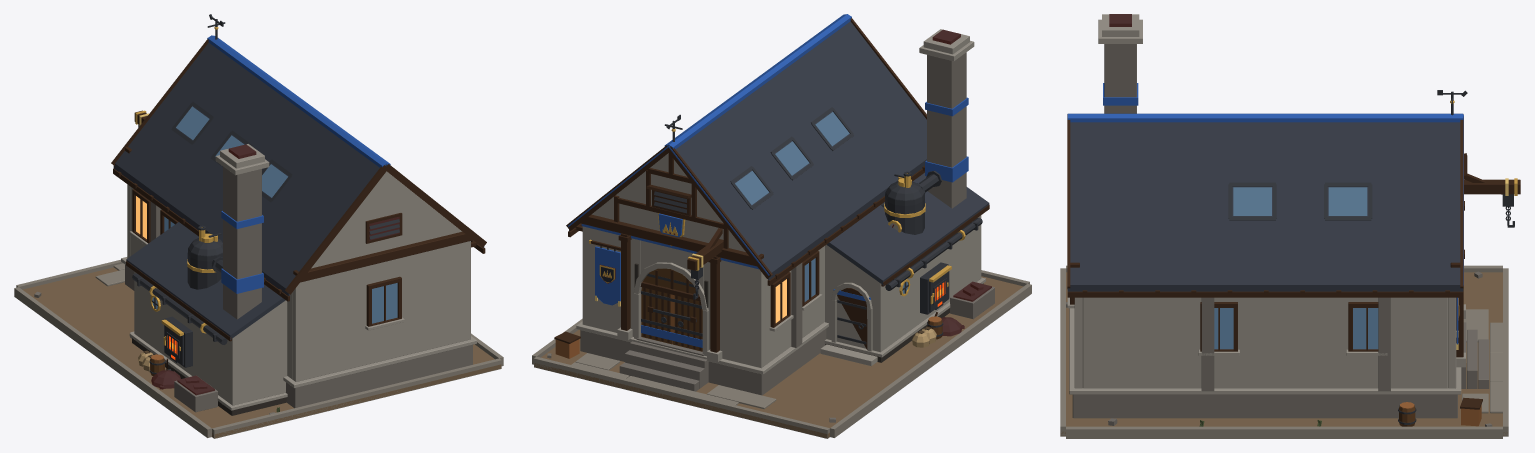
The model's file is 蒸汽车坊_低模.glb.
3 views of the same model, side by side, from view 1: azimuth 30°, elevation 25°; view 2: azimuth 150°, elevation 25°; view 3: azimuth 270°, elevation 25° (orthographic). The views are drawn at different scales.
Parts seen in each view (by area): view 1: SW-stone_light, SW-roof, SW-stone_mid, SW-earth, SW-wood_dark, SW-paving, SW-iron, SW-team, SW-glass, SW-coal, SW-gold, SW-stone_dark; view 2: SW-roof, SW-stone_light, SW-wood_dark, SW-stone_mid, SW-earth, SW-paving, SW-iron, SW-team, SW-glass, SW-wood_mid, SW-gold, SW-coal (+2 smaller); view 3: SW-roof, SW-stone_light, SW-stone_mid, SW-paving, SW-wood_dark, SW-earth, SW-team, SW-glass, SW-iron, SW-wood_warm.
Part boxes in pixels (x1,y1,x2,y2): SW-stone_light: (121,144,476,410); SW-roof: (113,43,484,339); SW-stone_mid: (34,166,472,414); SW-earth: (22,267,501,438); SW-wood_dark: (111,39,486,370); SW-paving: (14,259,503,438); SW-iron: (132,14,399,374); SW-team: (207,35,390,339); SW-glass: (152,106,397,323); SW-coal: (151,144,399,395); SW-gold: (135,27,218,350); SW-stone_dark: (132,338,286,415); SW-roof: (569,21,989,284); SW-stone_light: (576,29,985,374); SW-wood_dark: (554,18,989,352); SW-stone_mid: (547,52,994,422); SW-earth: (534,276,1023,438); SW-paving: (532,270,1031,438); SW-iron: (600,107,982,344); SW-team: (568,14,968,347); SW-glass: (735,112,907,301); SW-wood_mid: (641,268,942,351); SW-gold: (589,129,965,304); SW-coal: (599,29,991,336); SW-roof: (1067,122,1463,291); SW-stone_light: (1067,14,1465,394); SW-stone_mid: (1066,44,1492,426); SW-paving: (1060,265,1508,438); SW-wood_dark: (1067,114,1520,409); SW-earth: (1060,272,1507,435); SW-team: (1067,83,1463,344); SW-glass: (1214,187,1378,349); SW-iron: (1228,90,1514,424); SW-wood_warm: (1400,402,1481,426).
Bounding box in the file's own units: 12.16 × 10.04 × 14.48.
